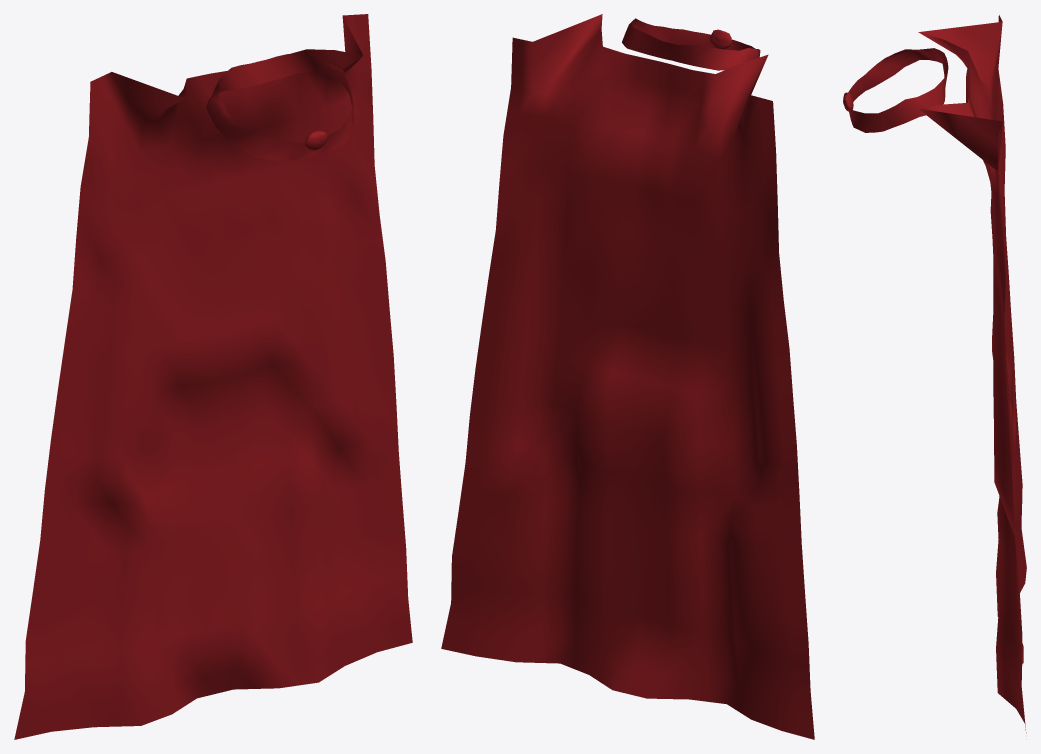
File: cape.glb
The picture shows the model from 3 angles, left to right: view 1: azimuth 30°, elevation 25°; view 2: azimuth 150°, elevation 25°; view 3: azimuth 270°, elevation 25°; orthographic projection. The views are drawn at different scales.
Visible parts, largest first — view 1: cape; view 2: cape; view 3: cape.
Boxes of the visible parts, box(x1,y1,x2,y2) form: cape: box(14, 14, 412, 739); cape: box(441, 14, 814, 739); cape: box(843, 15, 1026, 733).
Size of the model in its own units: 0.6398 by 1.02 by 0.2888.
